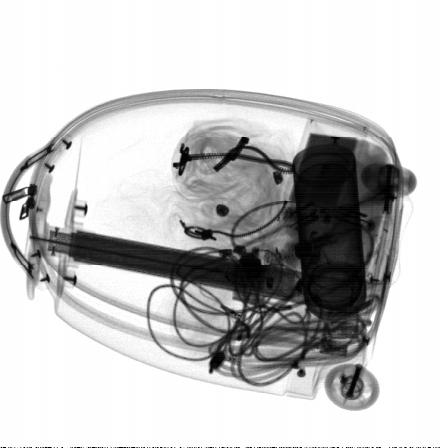Powerbank: (277, 118, 369, 244)
